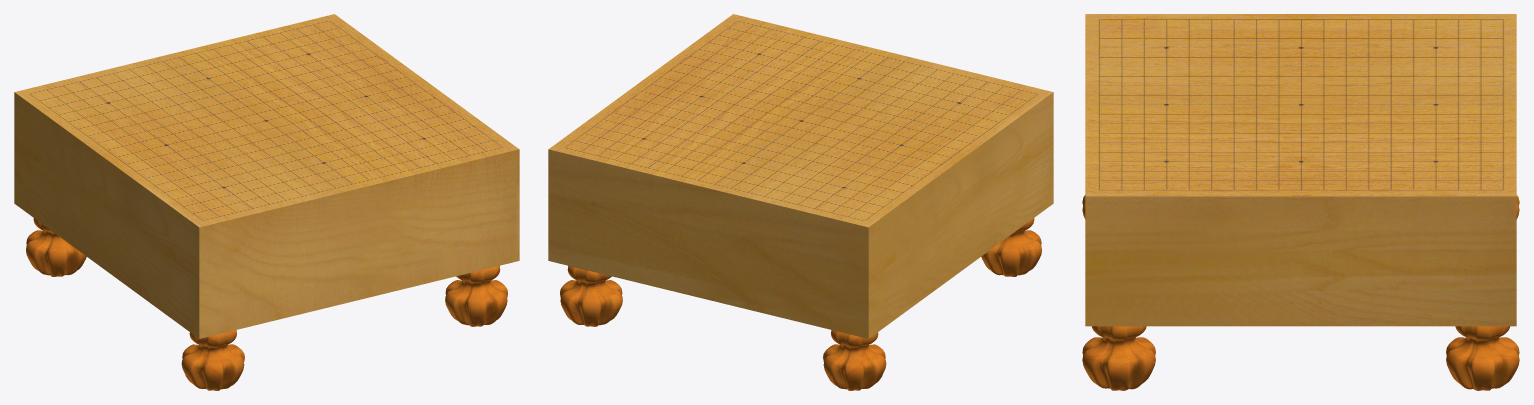
Rendered from goban.gltf.
The picture shows the model from 3 angles, left to right: view 1: azimuth 30°, elevation 25°; view 2: azimuth 150°, elevation 25°; view 3: azimuth 270°, elevation 25°; orthographic projection. The views are drawn at different scales.
Parts seen in each view (by area): view 1: goban, Sphere.003; view 2: goban, Sphere.003; view 3: goban, Sphere.003.
Boxes of the visible parts, <box> form: goban: <box>14,14,519,338</box>; Sphere.003: <box>26,218,507,390</box>; goban: <box>548,14,1053,338</box>; Sphere.003: <box>560,218,1041,390</box>; goban: <box>1085,14,1516,326</box>; Sphere.003: <box>1082,195,1519,390</box>.
Bounding box in the file's own units: 1 × 0.5225 × 1.01.
2 materials, 2 textured.
